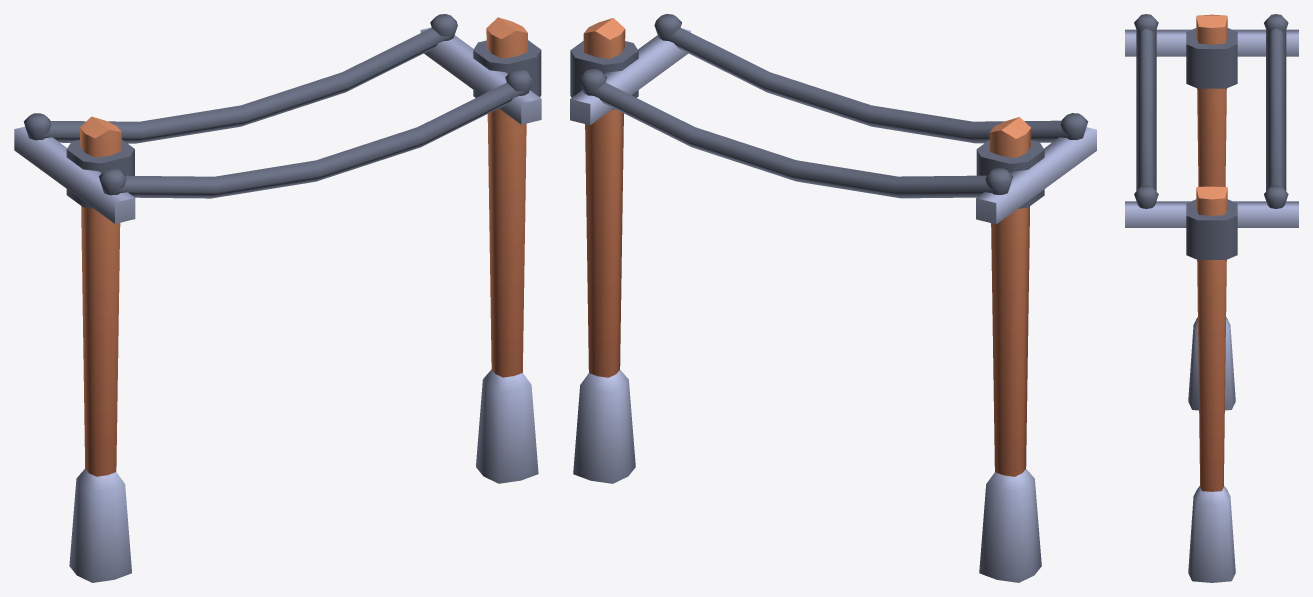
File: electricity-pole.glb
The picture shows the model from 3 angles, left to right: view 1: azimuth 30°, elevation 25°; view 2: azimuth 150°, elevation 25°; view 3: azimuth 270°, elevation 25°; orthographic projection. The views are drawn at different scales.
Visible parts, largest first — view 1: electricity-pole; view 2: electricity-pole; view 3: electricity-pole.
Part boxes in pixels (x1,y1,x2,y2): electricity-pole: (14, 14, 541, 582); electricity-pole: (570, 14, 1096, 582); electricity-pole: (1125, 14, 1298, 582).
Bounding box in the file's own units: 0.5791 × 0.525 × 0.2142.
1 material, 1 textured.
